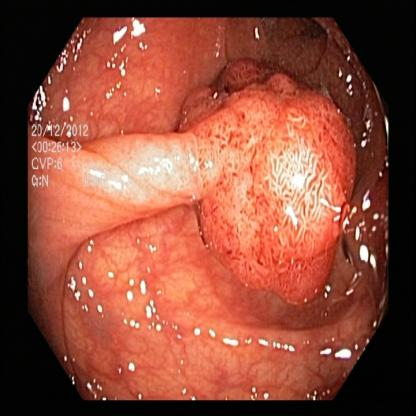Labels: (27, 115, 101, 196)
Polyps: (202, 104, 349, 292)
